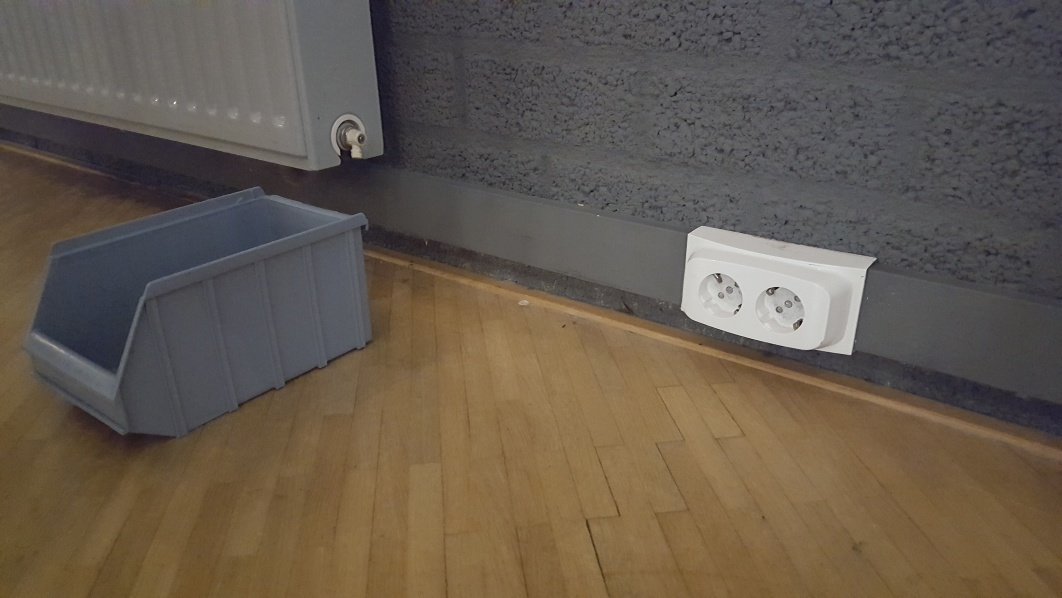tray: (25, 182, 374, 436)
